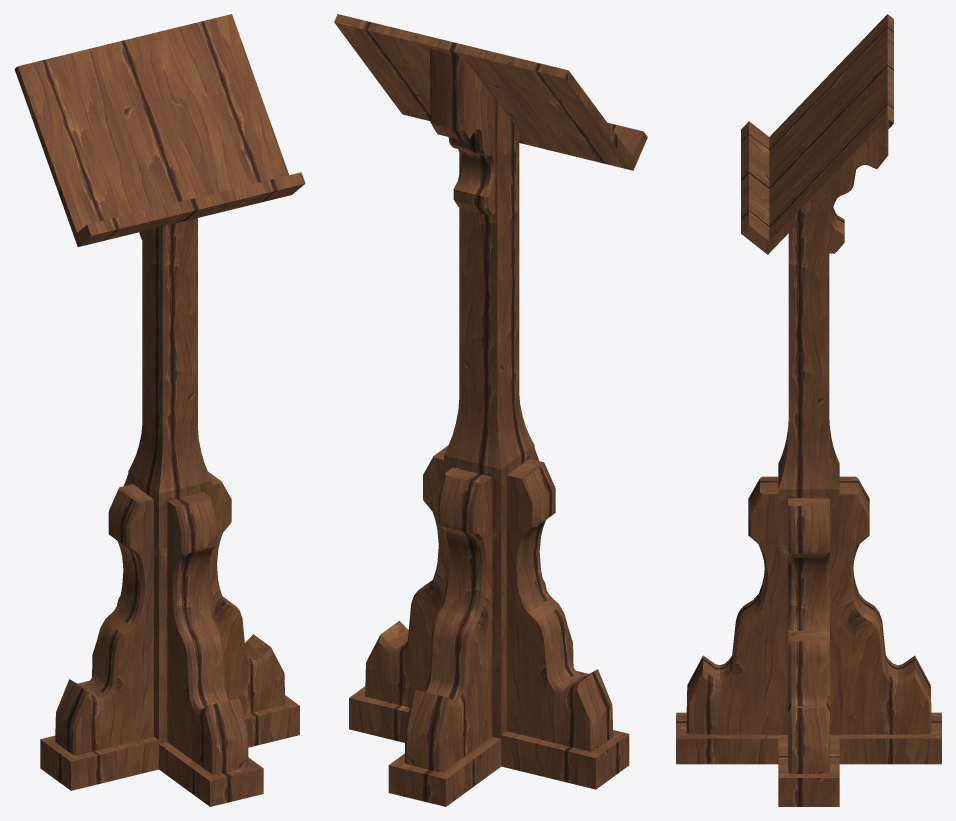
Rendered from furn_book_stand.glb.
The picture shows the model from 3 angles, left to right: view 1: azimuth 30°, elevation 25°; view 2: azimuth 150°, elevation 25°; view 3: azimuth 270°, elevation 25°; orthographic projection. The views are drawn at different scales.
Visible parts, largest first — view 1: model; view 2: model; view 3: model.
Boxes of the visible parts, bbox=[...] form: model: bbox=[14, 14, 305, 806]; model: bbox=[334, 14, 647, 806]; model: bbox=[676, 14, 941, 806].
Bounding box in the file's own units: 0.5071 × 1.45 × 0.5112.
1 material, 1 textured.
